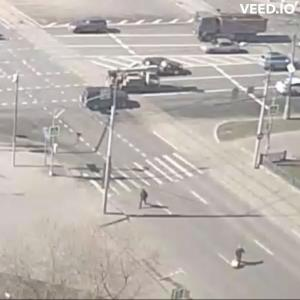car: (193, 11, 270, 43), (104, 68, 163, 94), (86, 86, 138, 115), (147, 58, 193, 78), (71, 19, 119, 36), (203, 38, 244, 56), (262, 53, 293, 73), (275, 74, 300, 98)
